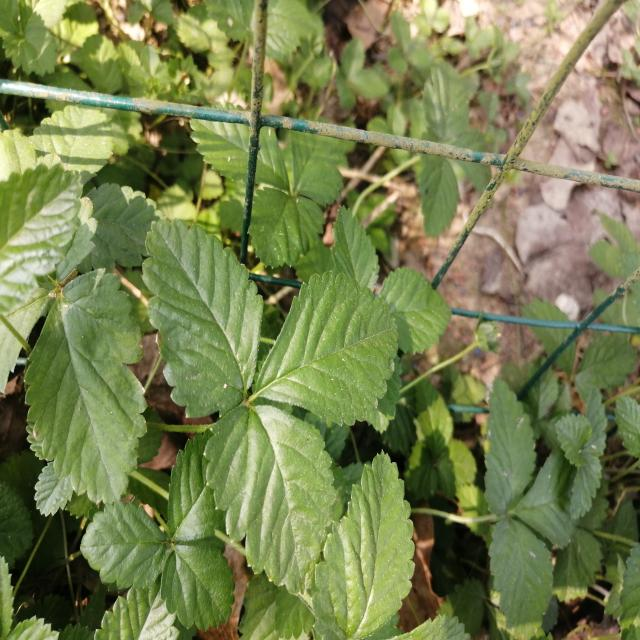Mock_strawberry: (133, 204, 407, 571)
